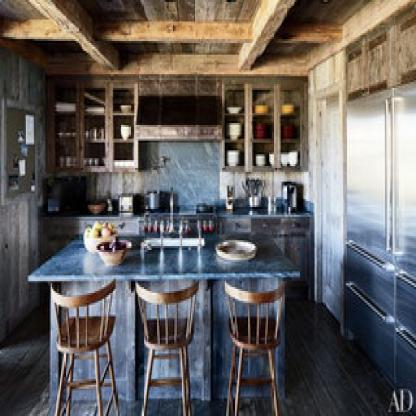chair: (44, 277, 119, 416), (219, 277, 291, 416), (134, 278, 202, 416)
